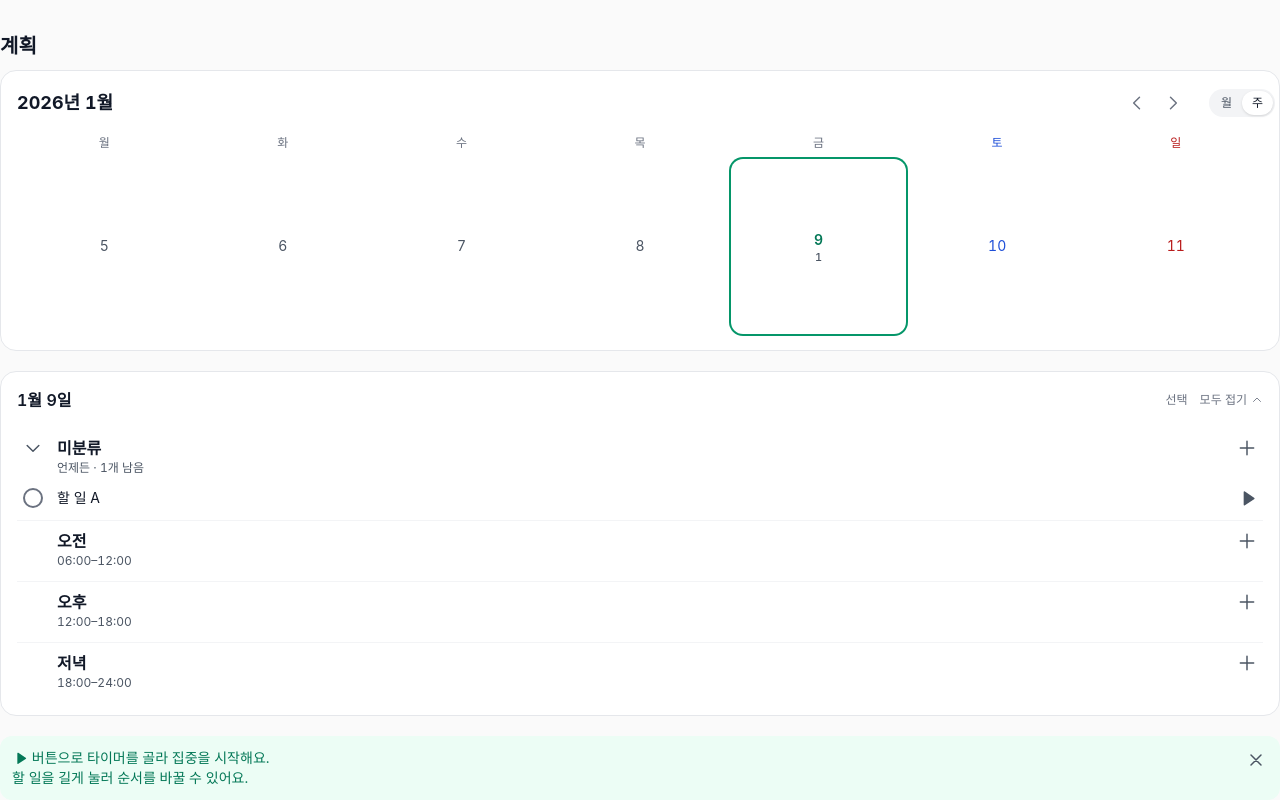
Test: TodosPage delete undo › shows an error and brings the todo back when the delete request fails
(page scrolled)
Click the button "할 일 A". click: (78, 497)
box: [57, 488, 1223, 508]
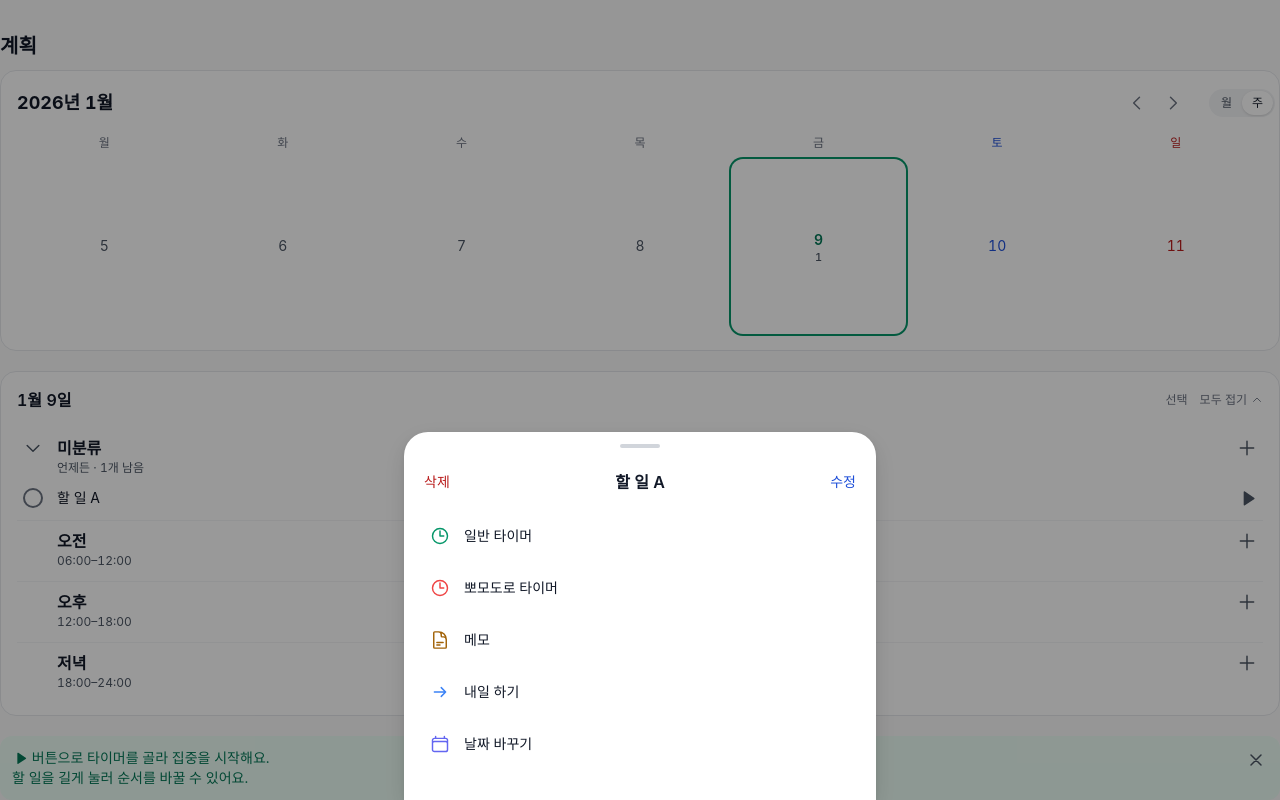
Click the button with aria-label "할 일 A 삭제". click: (437, 482)
box: [412, 464, 462, 500]
Wait 6000 ms
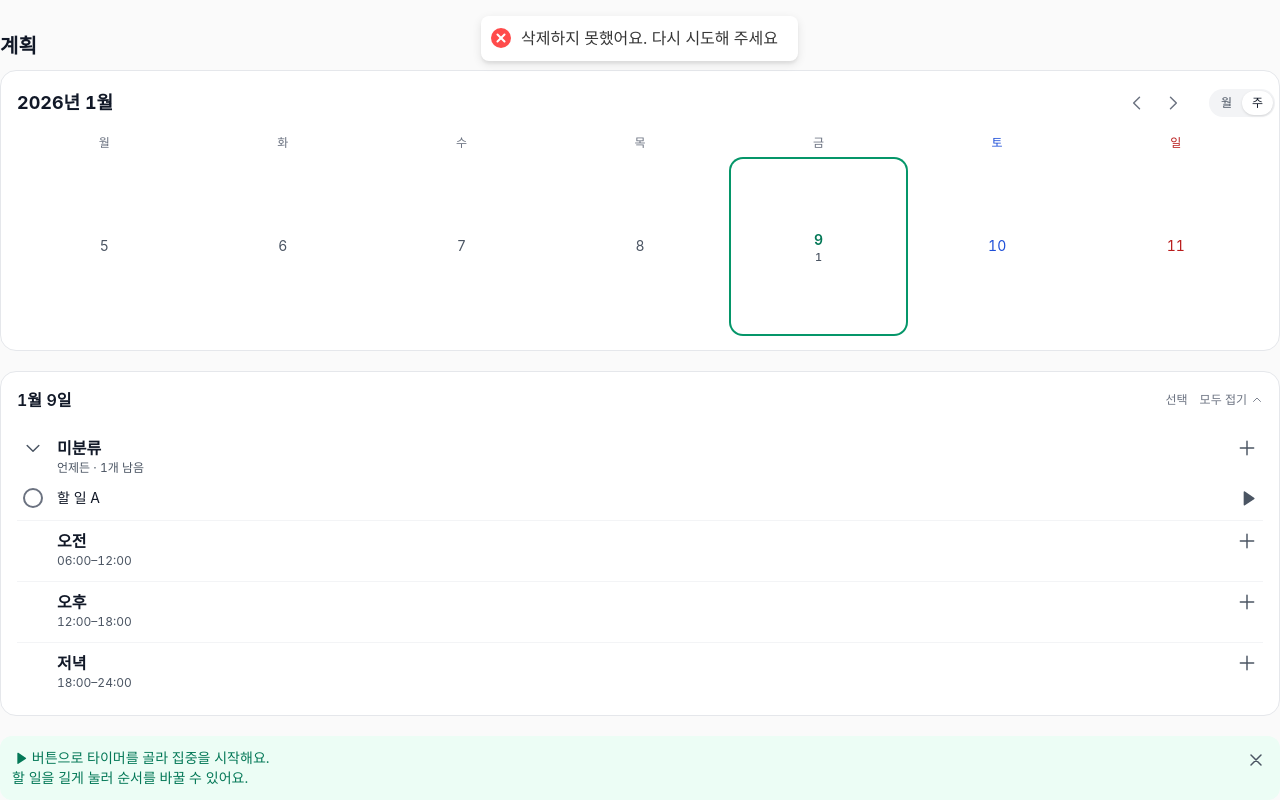
Expected: the text "할 일 A" is shown, [57, 489, 100, 506]
Expected: the text "삭제하지 못했어요. 다시 시도해 주세요" is shown, [522, 28, 778, 49]
